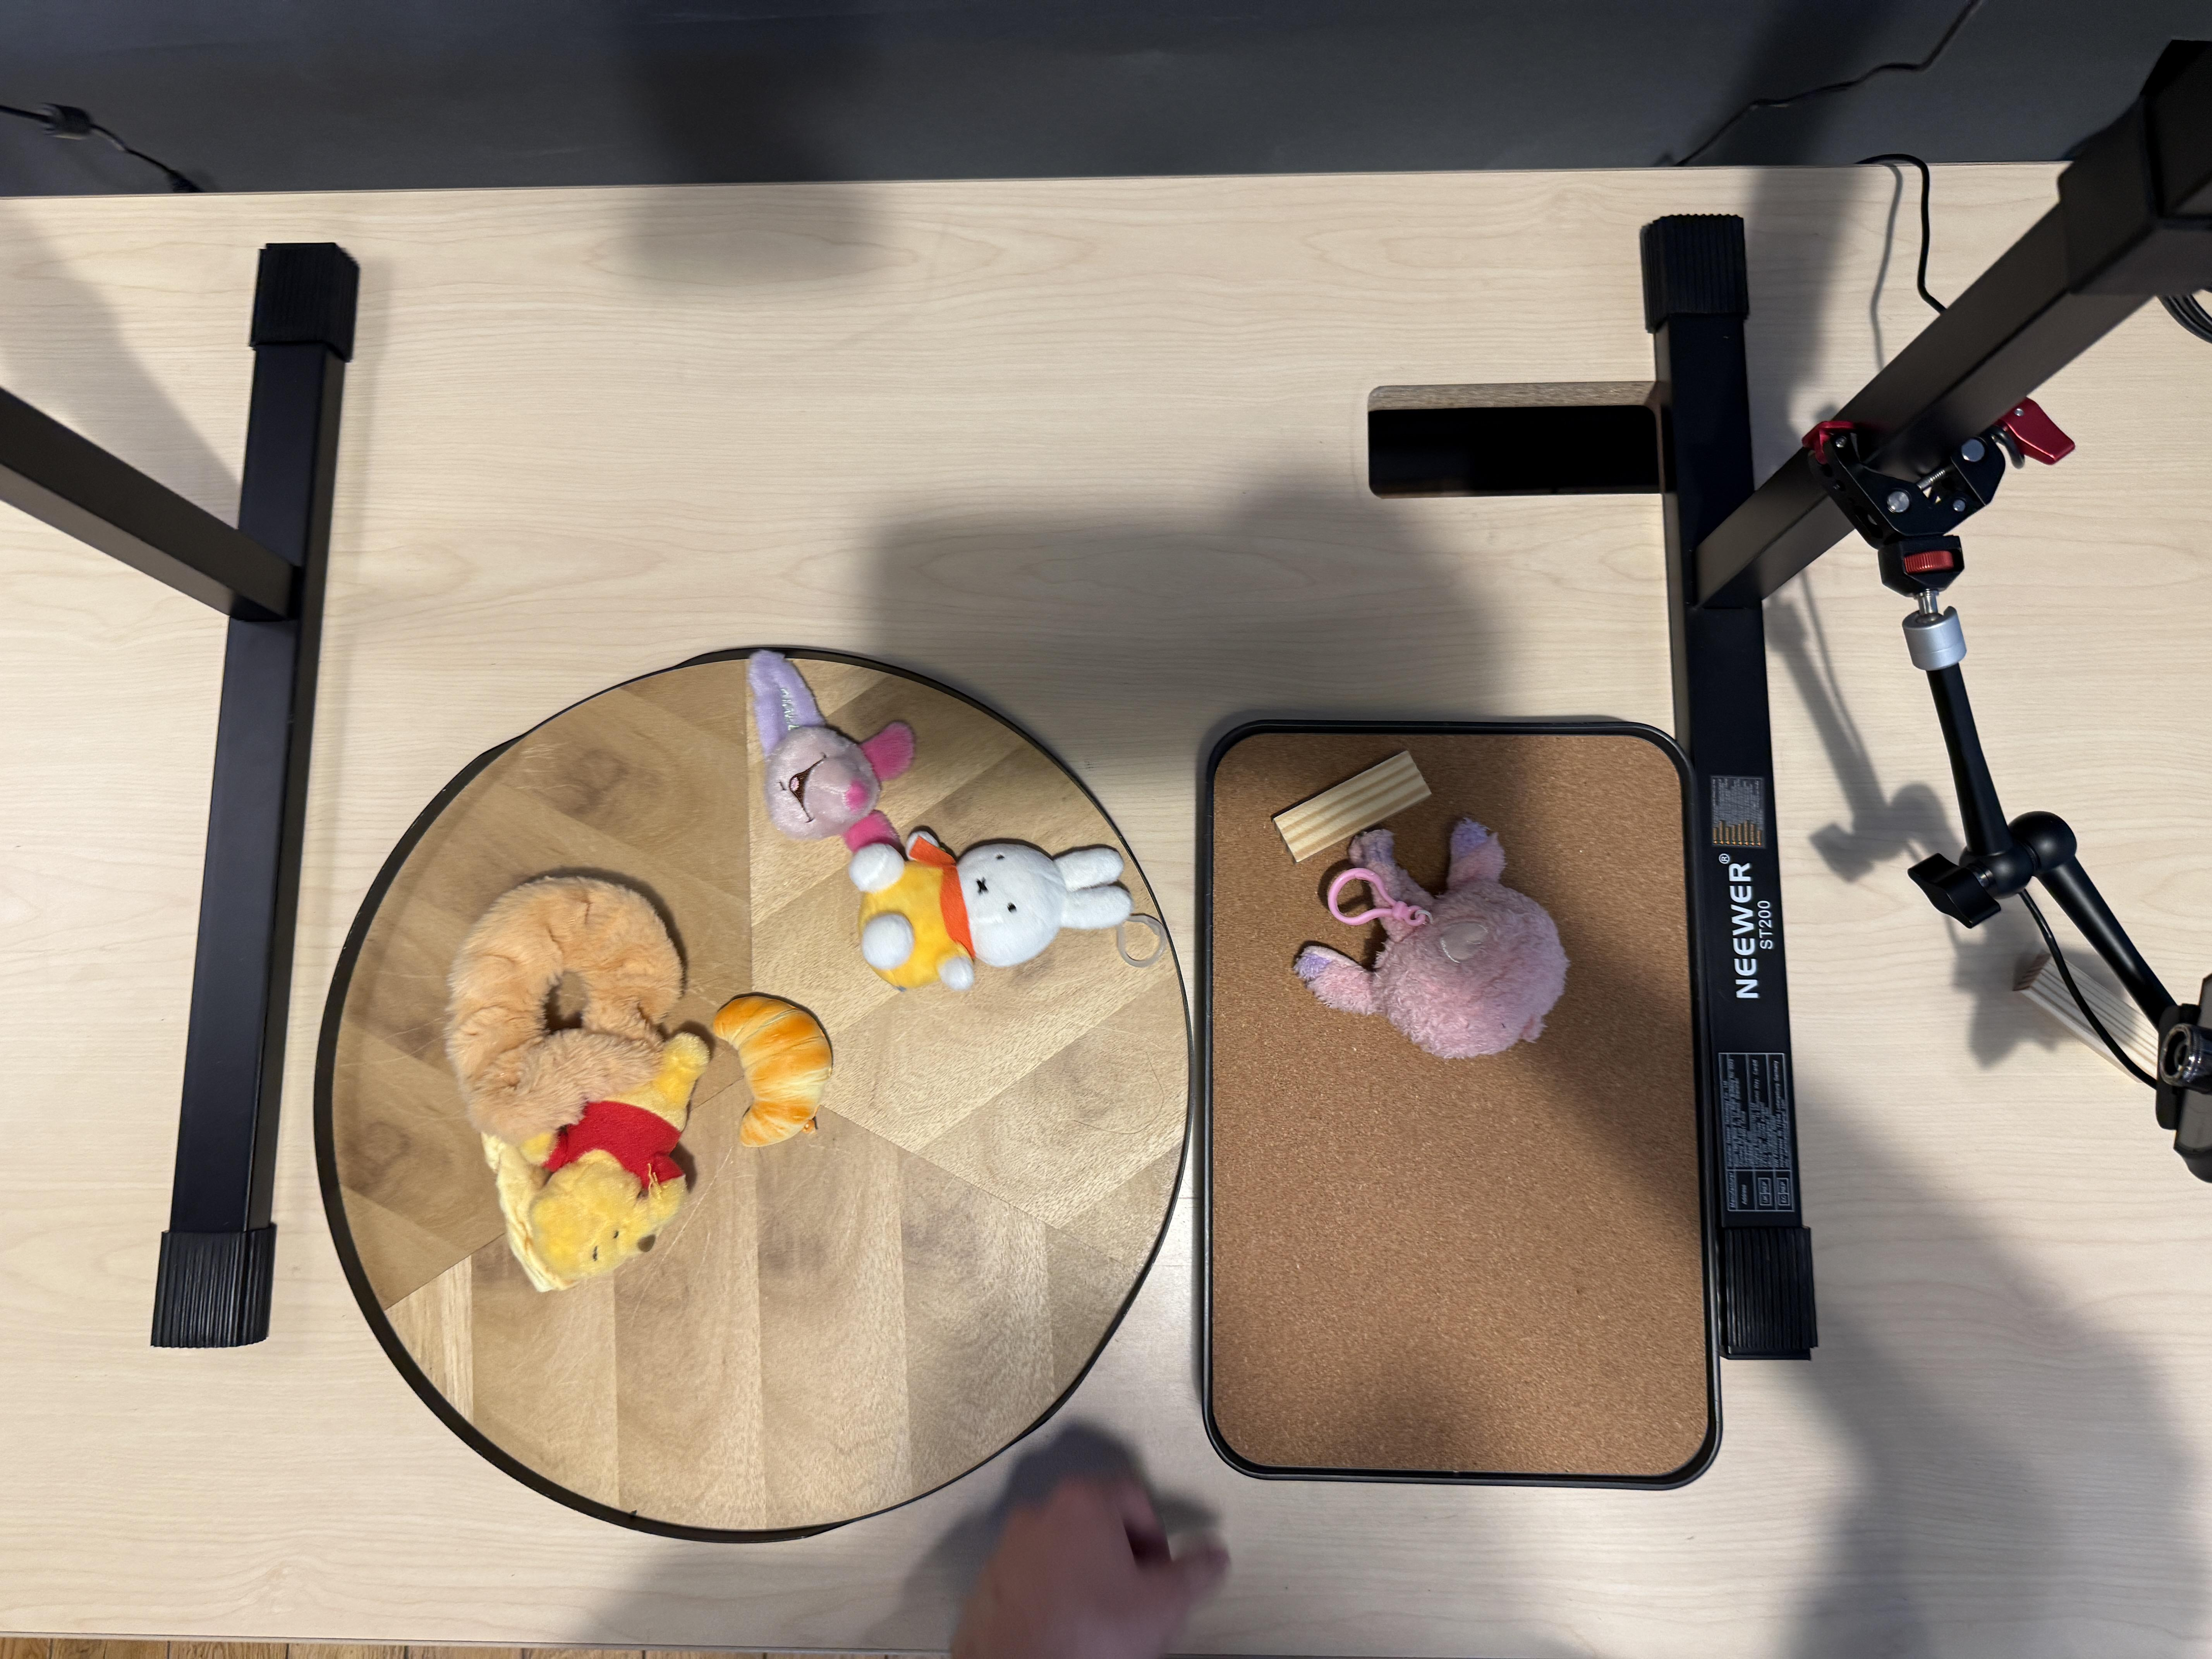block: (1268, 749, 1435, 861)
bread: (712, 993, 834, 1148), (484, 1133, 568, 1291)
doll: (446, 871, 702, 1279), (1285, 826, 1576, 1065), (850, 829, 1130, 992), (742, 657, 909, 856)
